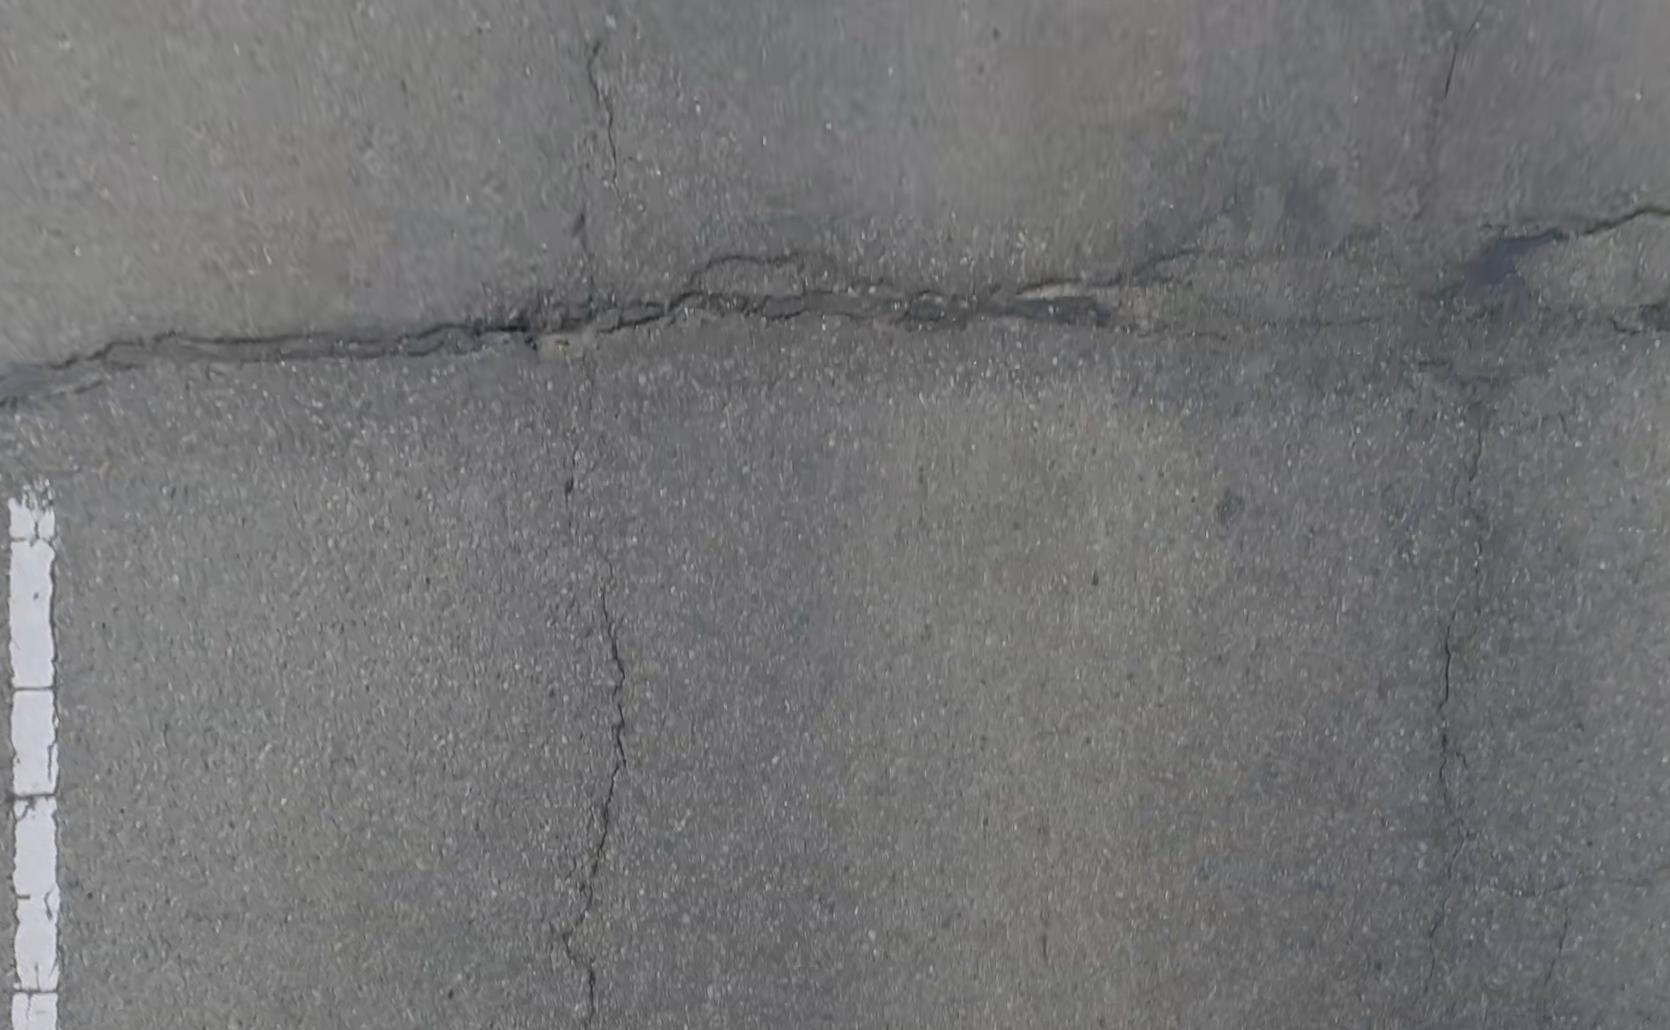pothole: (530, 317, 599, 357)
